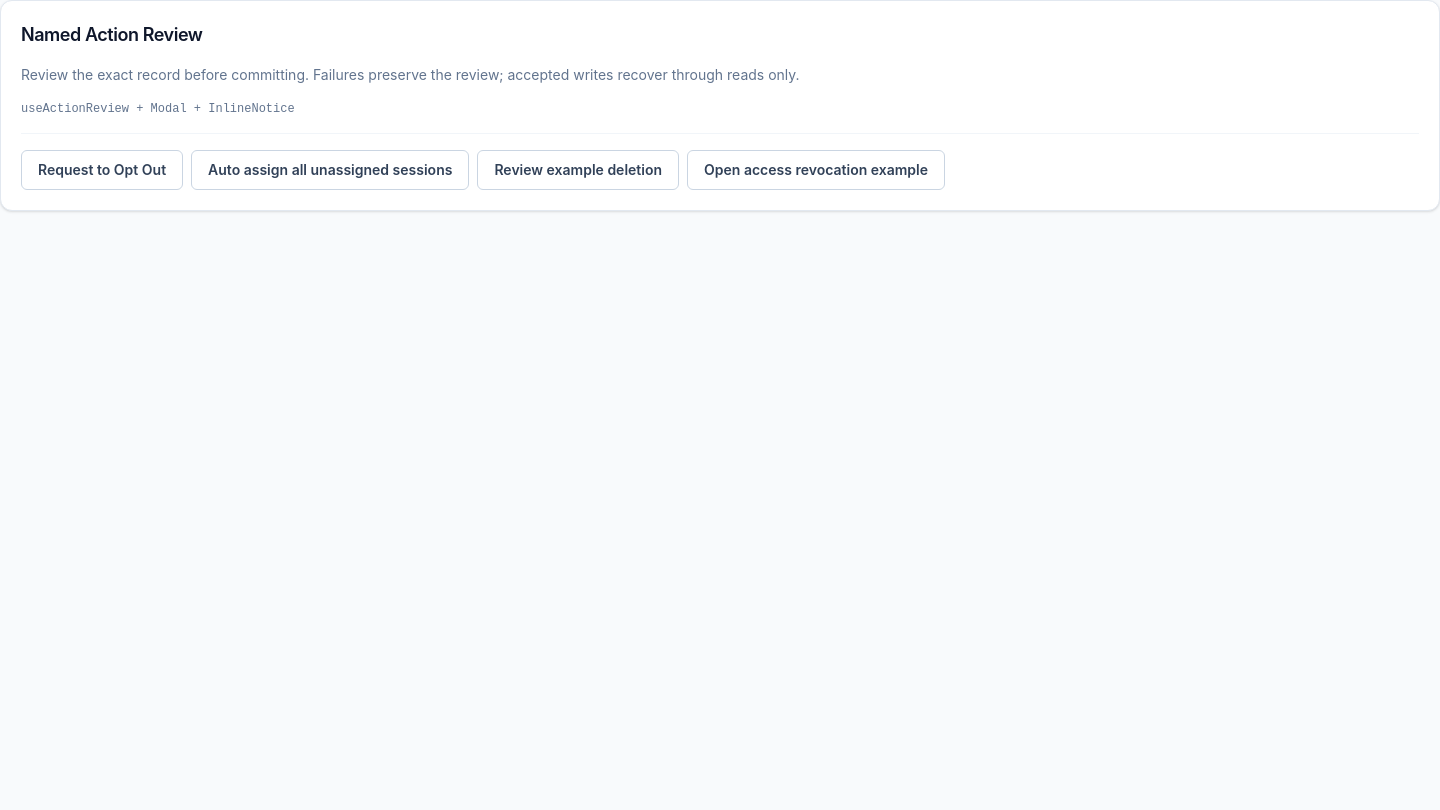
Test: conceals revoked example evidence and permits a fresh review after restored access
Click the button "Open access revocation example" at (816, 170), box [687, 150, 945, 190]
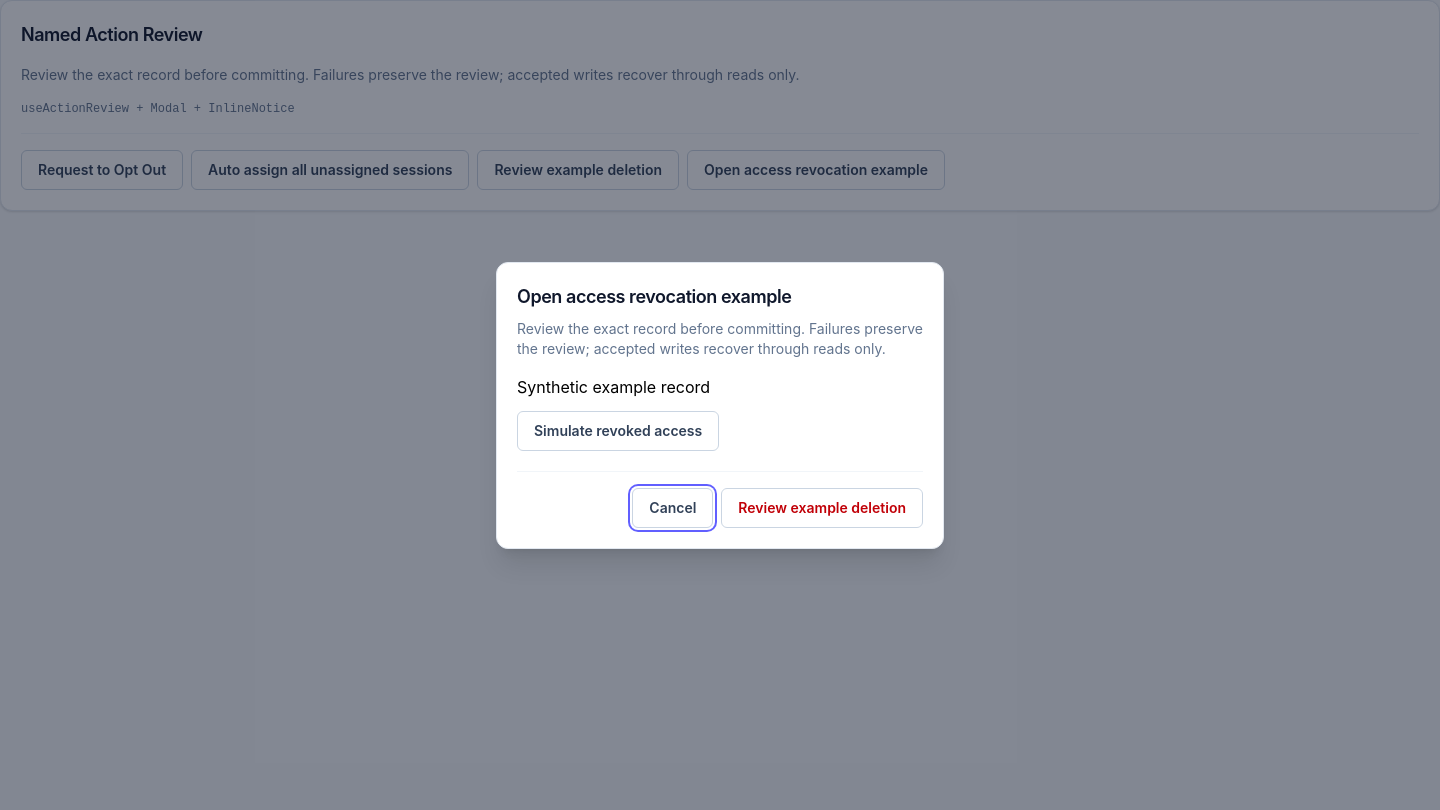
Click the button "Simulate revoked access" at (618, 430), box [517, 410, 719, 450]
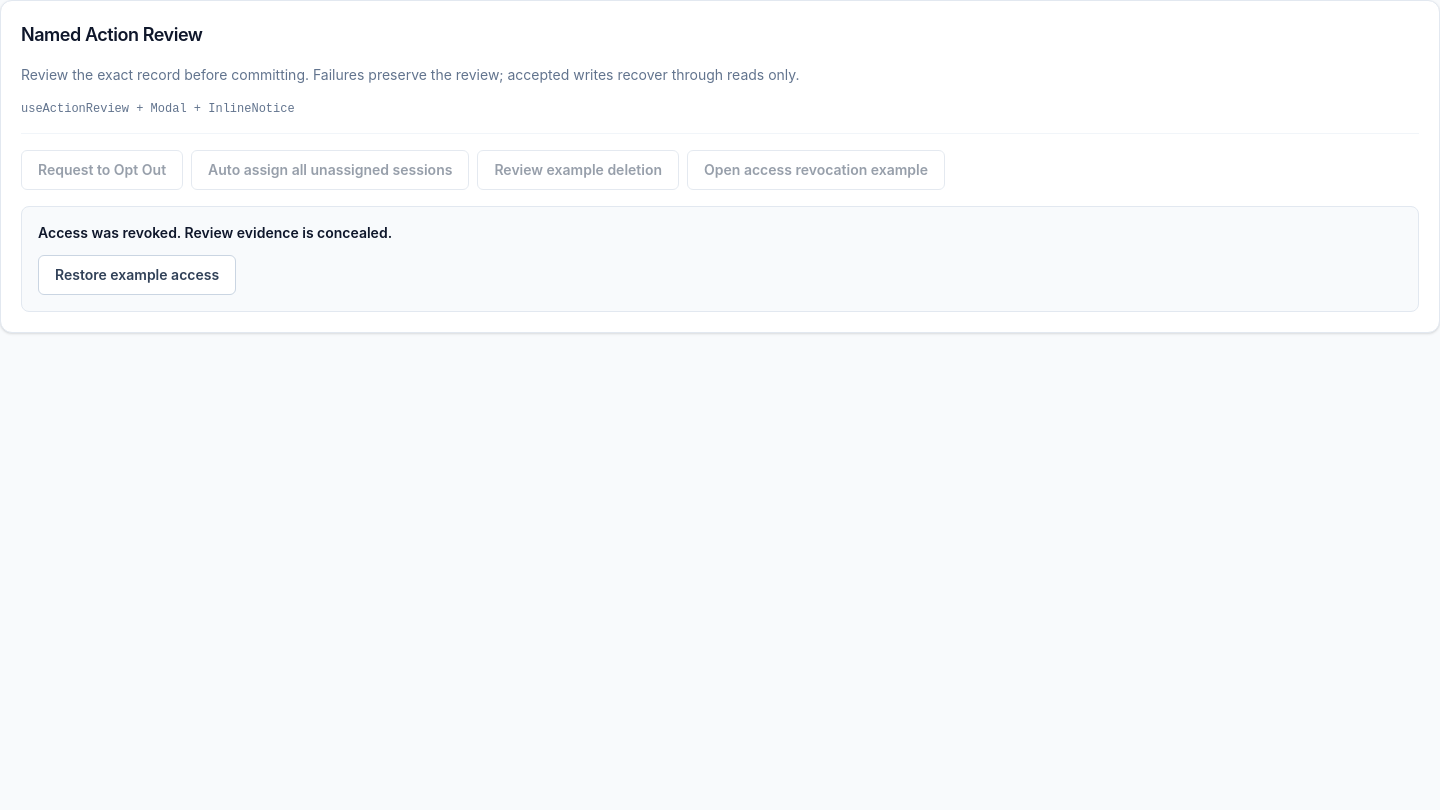
Now the dialog is gone
Now the text "Synthetic example record" is gone
Now the button "Open access revocation example" is disabled, box [687, 150, 945, 190]
Click the button "Restore example access" at (137, 275), box [38, 255, 236, 295]
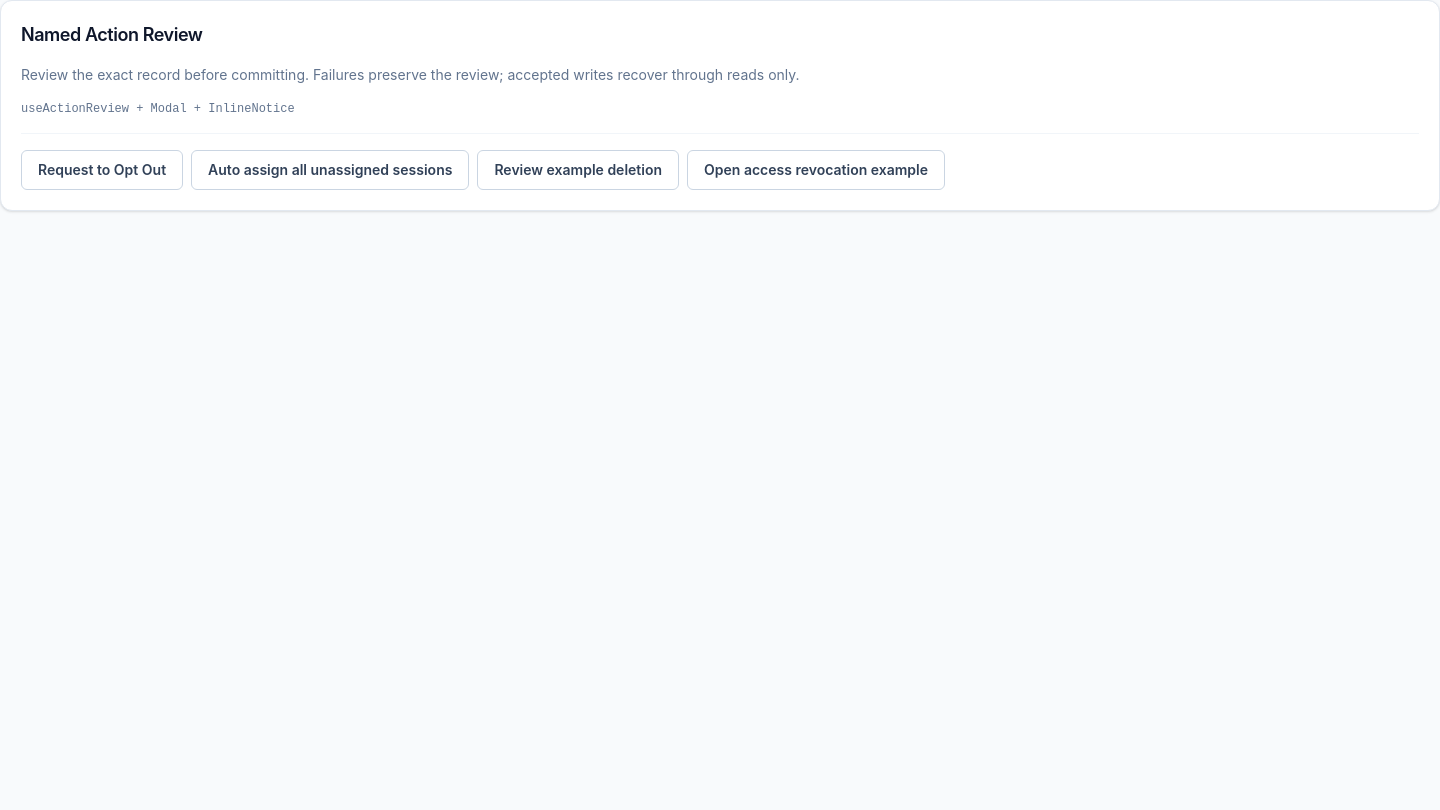
Click the button "Open access revocation example" at (816, 170), box [687, 150, 945, 190]
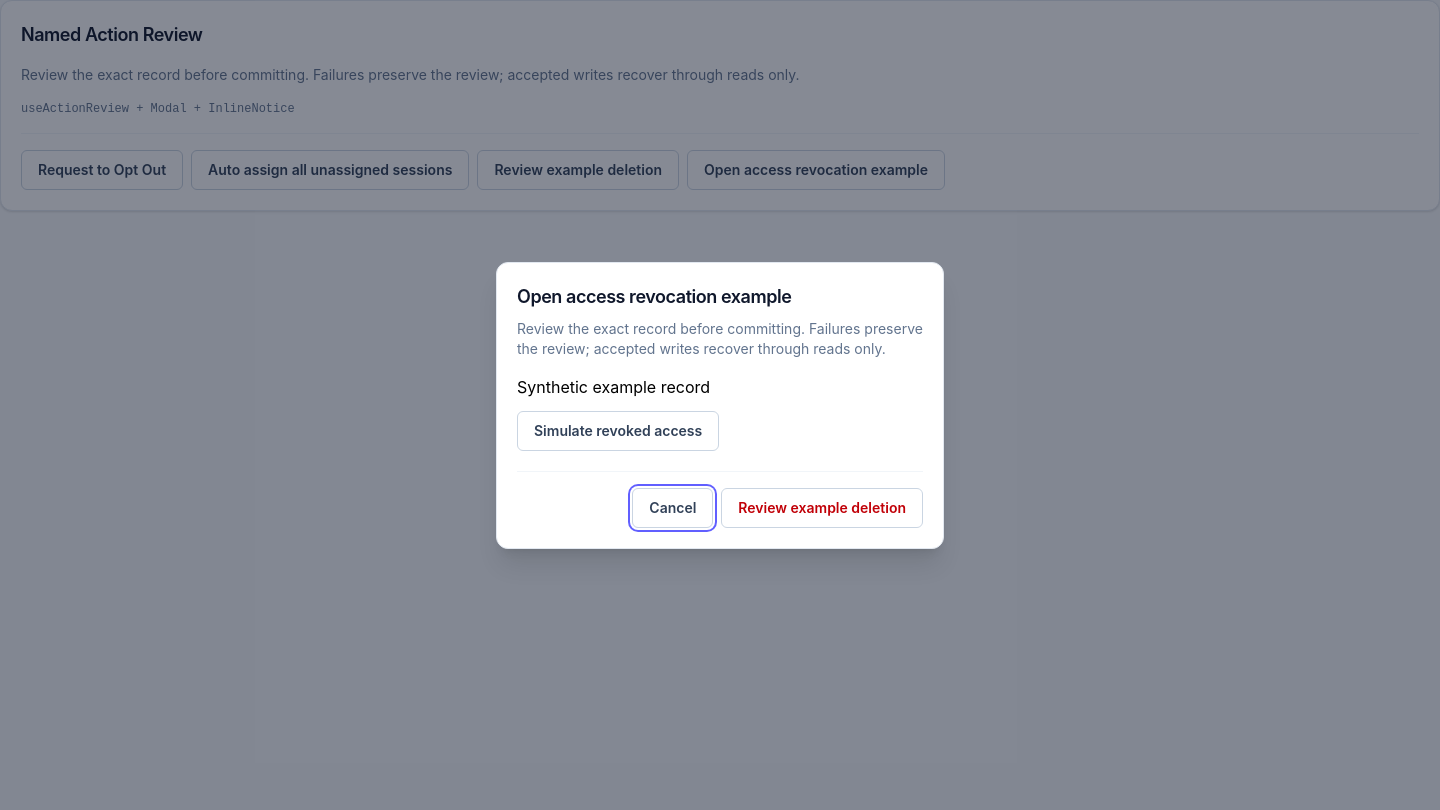
Now the text "Synthetic example record" is shown, box [517, 376, 710, 396]
